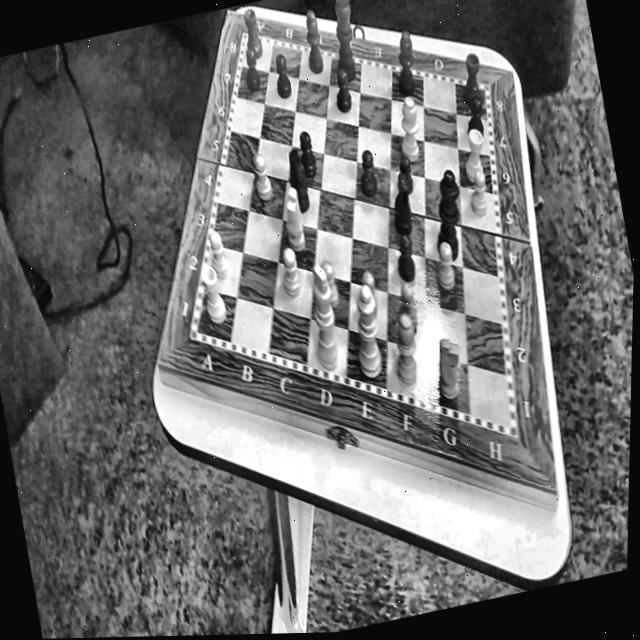chessboard: (197, 36, 509, 424)
